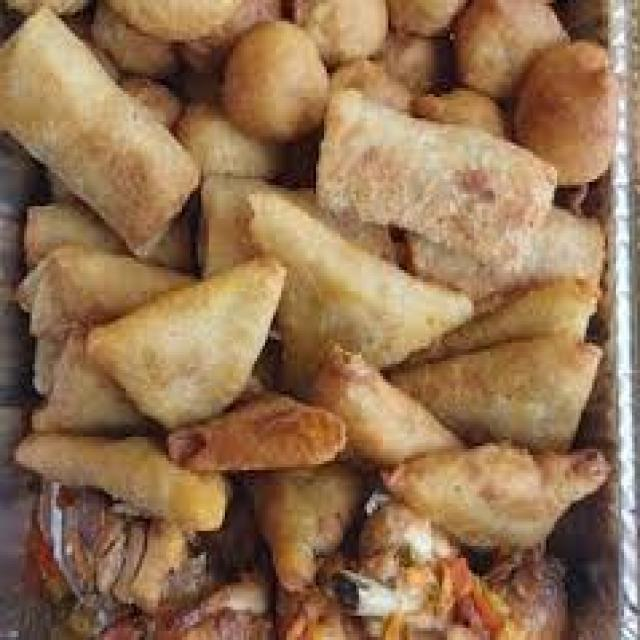Samosa: (18, 191, 610, 525)
Spring Rolls: (324, 109, 608, 279), (6, 9, 180, 237)
